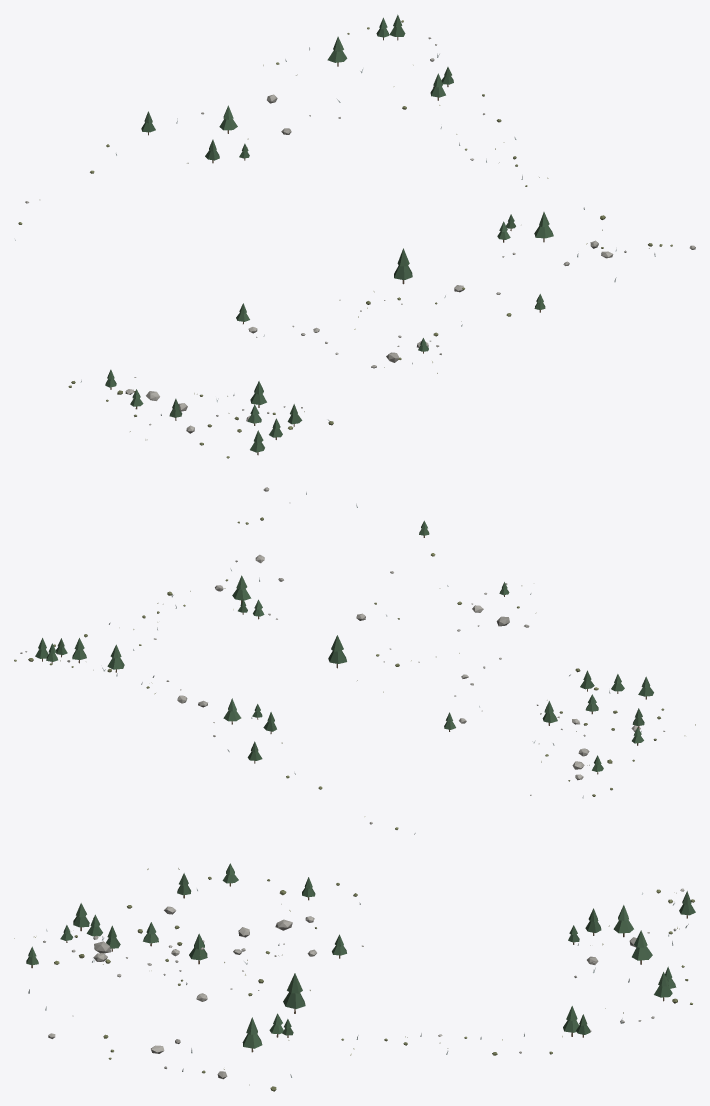
File: coast_land_scatter_c10_16_lod1.glb
The picture shows the model from 3 angles, top to bottom: view 1: azimuth 30°, elevation 25°; view 2: azimuth 150°, elevation 25°; view 3: azimuth 270°, elevation 25°; orthographic projection. The views are drawn at different scales.
Visible parts, largest first — view 1: coast_land_scatter_c10_16_lod1; view 2: coast_land_scatter_c10_16_lod1; view 3: coast_land_scatter_c10_16_lod1.
Part boxes in pixels (box(x1,y1,x2,y2)): coast_land_scatter_c10_16_lod1: box(14, 14, 695, 458); coast_land_scatter_c10_16_lod1: box(14, 487, 695, 834); coast_land_scatter_c10_16_lod1: box(14, 863, 695, 1091).
Size of the model in its own units: 257 by 81.86 by 256.
